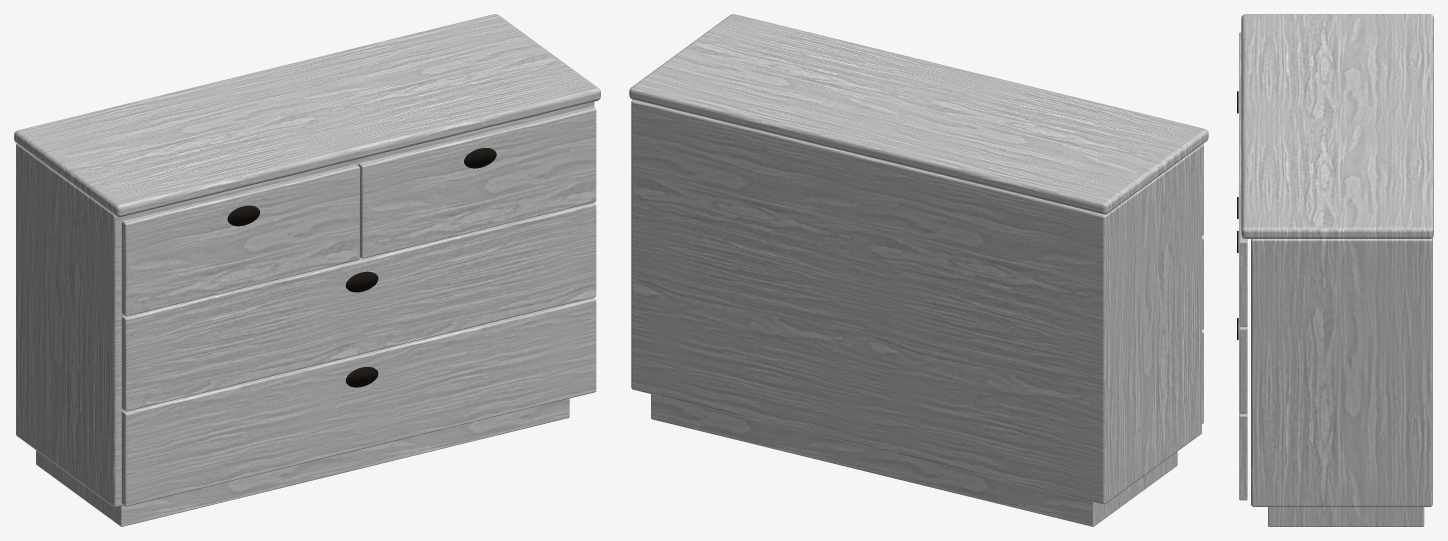
The model's file is dresser.gltf.
3 renders of one model, left to right at view 1: azimuth 30°, elevation 25°; view 2: azimuth 150°, elevation 25°; view 3: azimuth 270°, elevation 25°, orthographic. The views are drawn at different scales.
Visible parts, largest first — view 1: dresser; view 2: dresser; view 3: dresser.
Part boxes in pixels (bbox=[...]): dresser: bbox=[14, 14, 600, 526]; dresser: bbox=[629, 14, 1208, 526]; dresser: bbox=[1237, 14, 1433, 526].
Size of the model in its own units: 1.21 by 0.8 by 0.4655.
2 materials, 1 textured.
